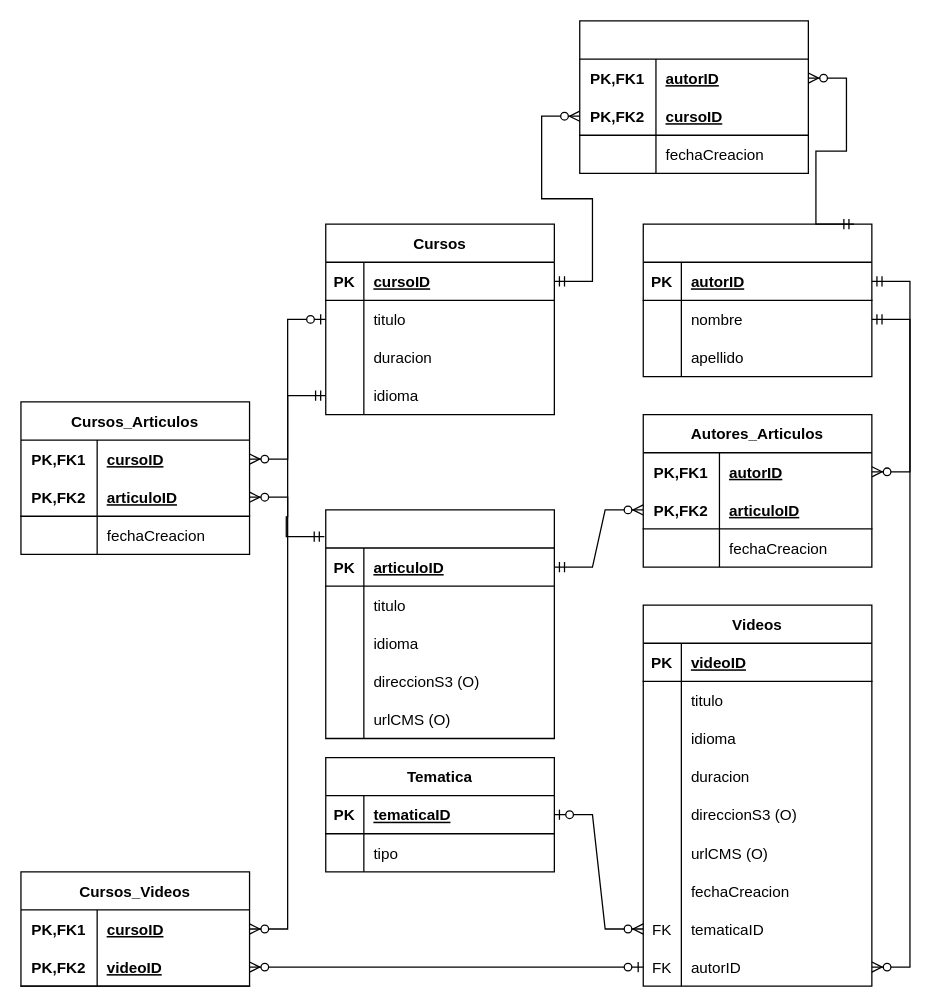
Some shapes in this 931 by 1007 pixel diagram are drawn without their labels. The box of each missing label's shape, as (x1, y1, x2, y2) in pixels:
Articulos: (324, 509, 554, 739)
Autores: (642, 223, 872, 377)
Autores_Cursos: (578, 20, 808, 173)
